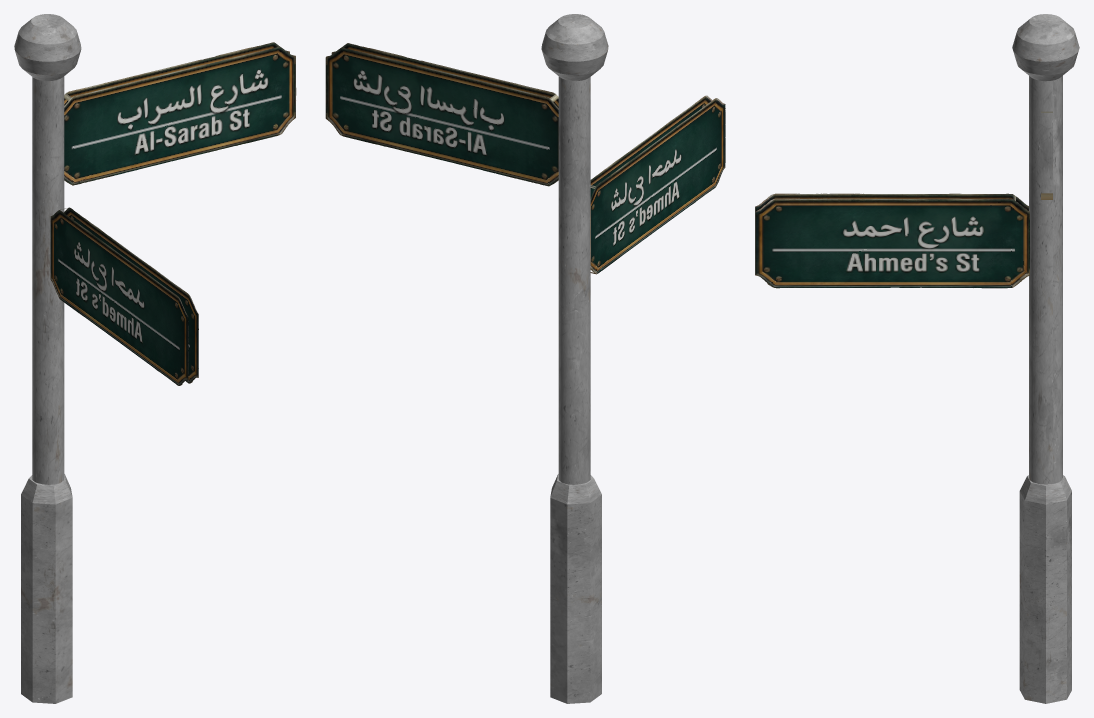
File: Streets Name Board.fbx
3 views of the same model, side by side, from view 1: azimuth 30°, elevation 25°; view 2: azimuth 150°, elevation 25°; view 3: azimuth 270°, elevation 25° (orthographic).
Parts seen in each view (by area): view 1: pCylinder3, pCube3, pCube2; view 2: pCylinder3, pCube3, pCube2; view 3: pCylinder3, pCube2.
Boxes of the visible parts, <box> form: pCylinder3: <box>14,14,81,703</box>; pCube3: <box>64,42,296,185</box>; pCube2: <box>50,207,198,385</box>; pCylinder3: <box>541,14,608,703</box>; pCube3: <box>325,43,558,186</box>; pCube2: <box>590,95,725,274</box>; pCylinder3: <box>1012,14,1079,703</box>; pCube2: <box>755,193,1029,288</box>.
Bounding box in the file's own units: 3.39 × 7.89 × 3.46.
Materials: 3 (3 with a texture image).
